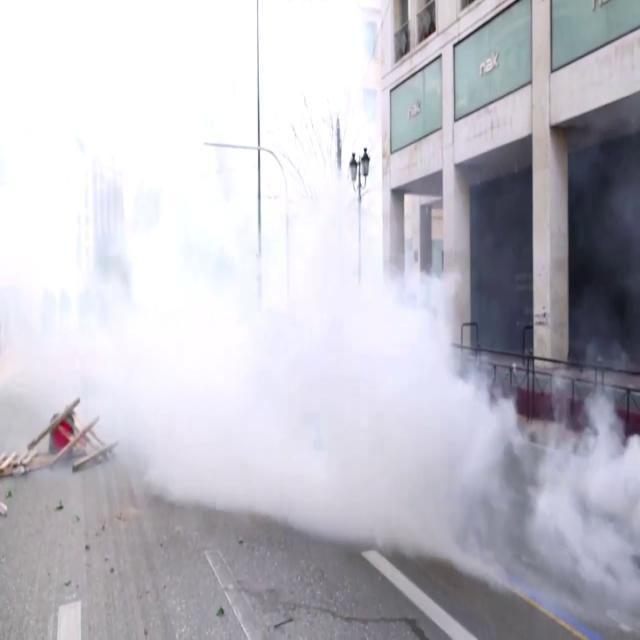Smoke: (0, 103, 487, 552), (460, 363, 638, 631), (563, 118, 640, 387)
